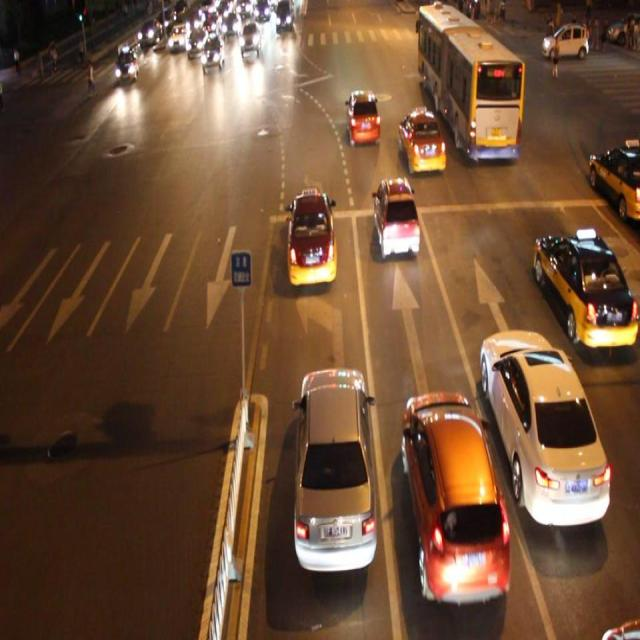car: (479, 328, 608, 528), (402, 390, 509, 604), (292, 364, 377, 576), (530, 226, 640, 355), (585, 136, 640, 225), (287, 188, 336, 287), (371, 176, 420, 260), (398, 110, 446, 176), (345, 89, 379, 144), (115, 48, 138, 80), (202, 38, 223, 69)
van: (415, 1, 524, 165)
